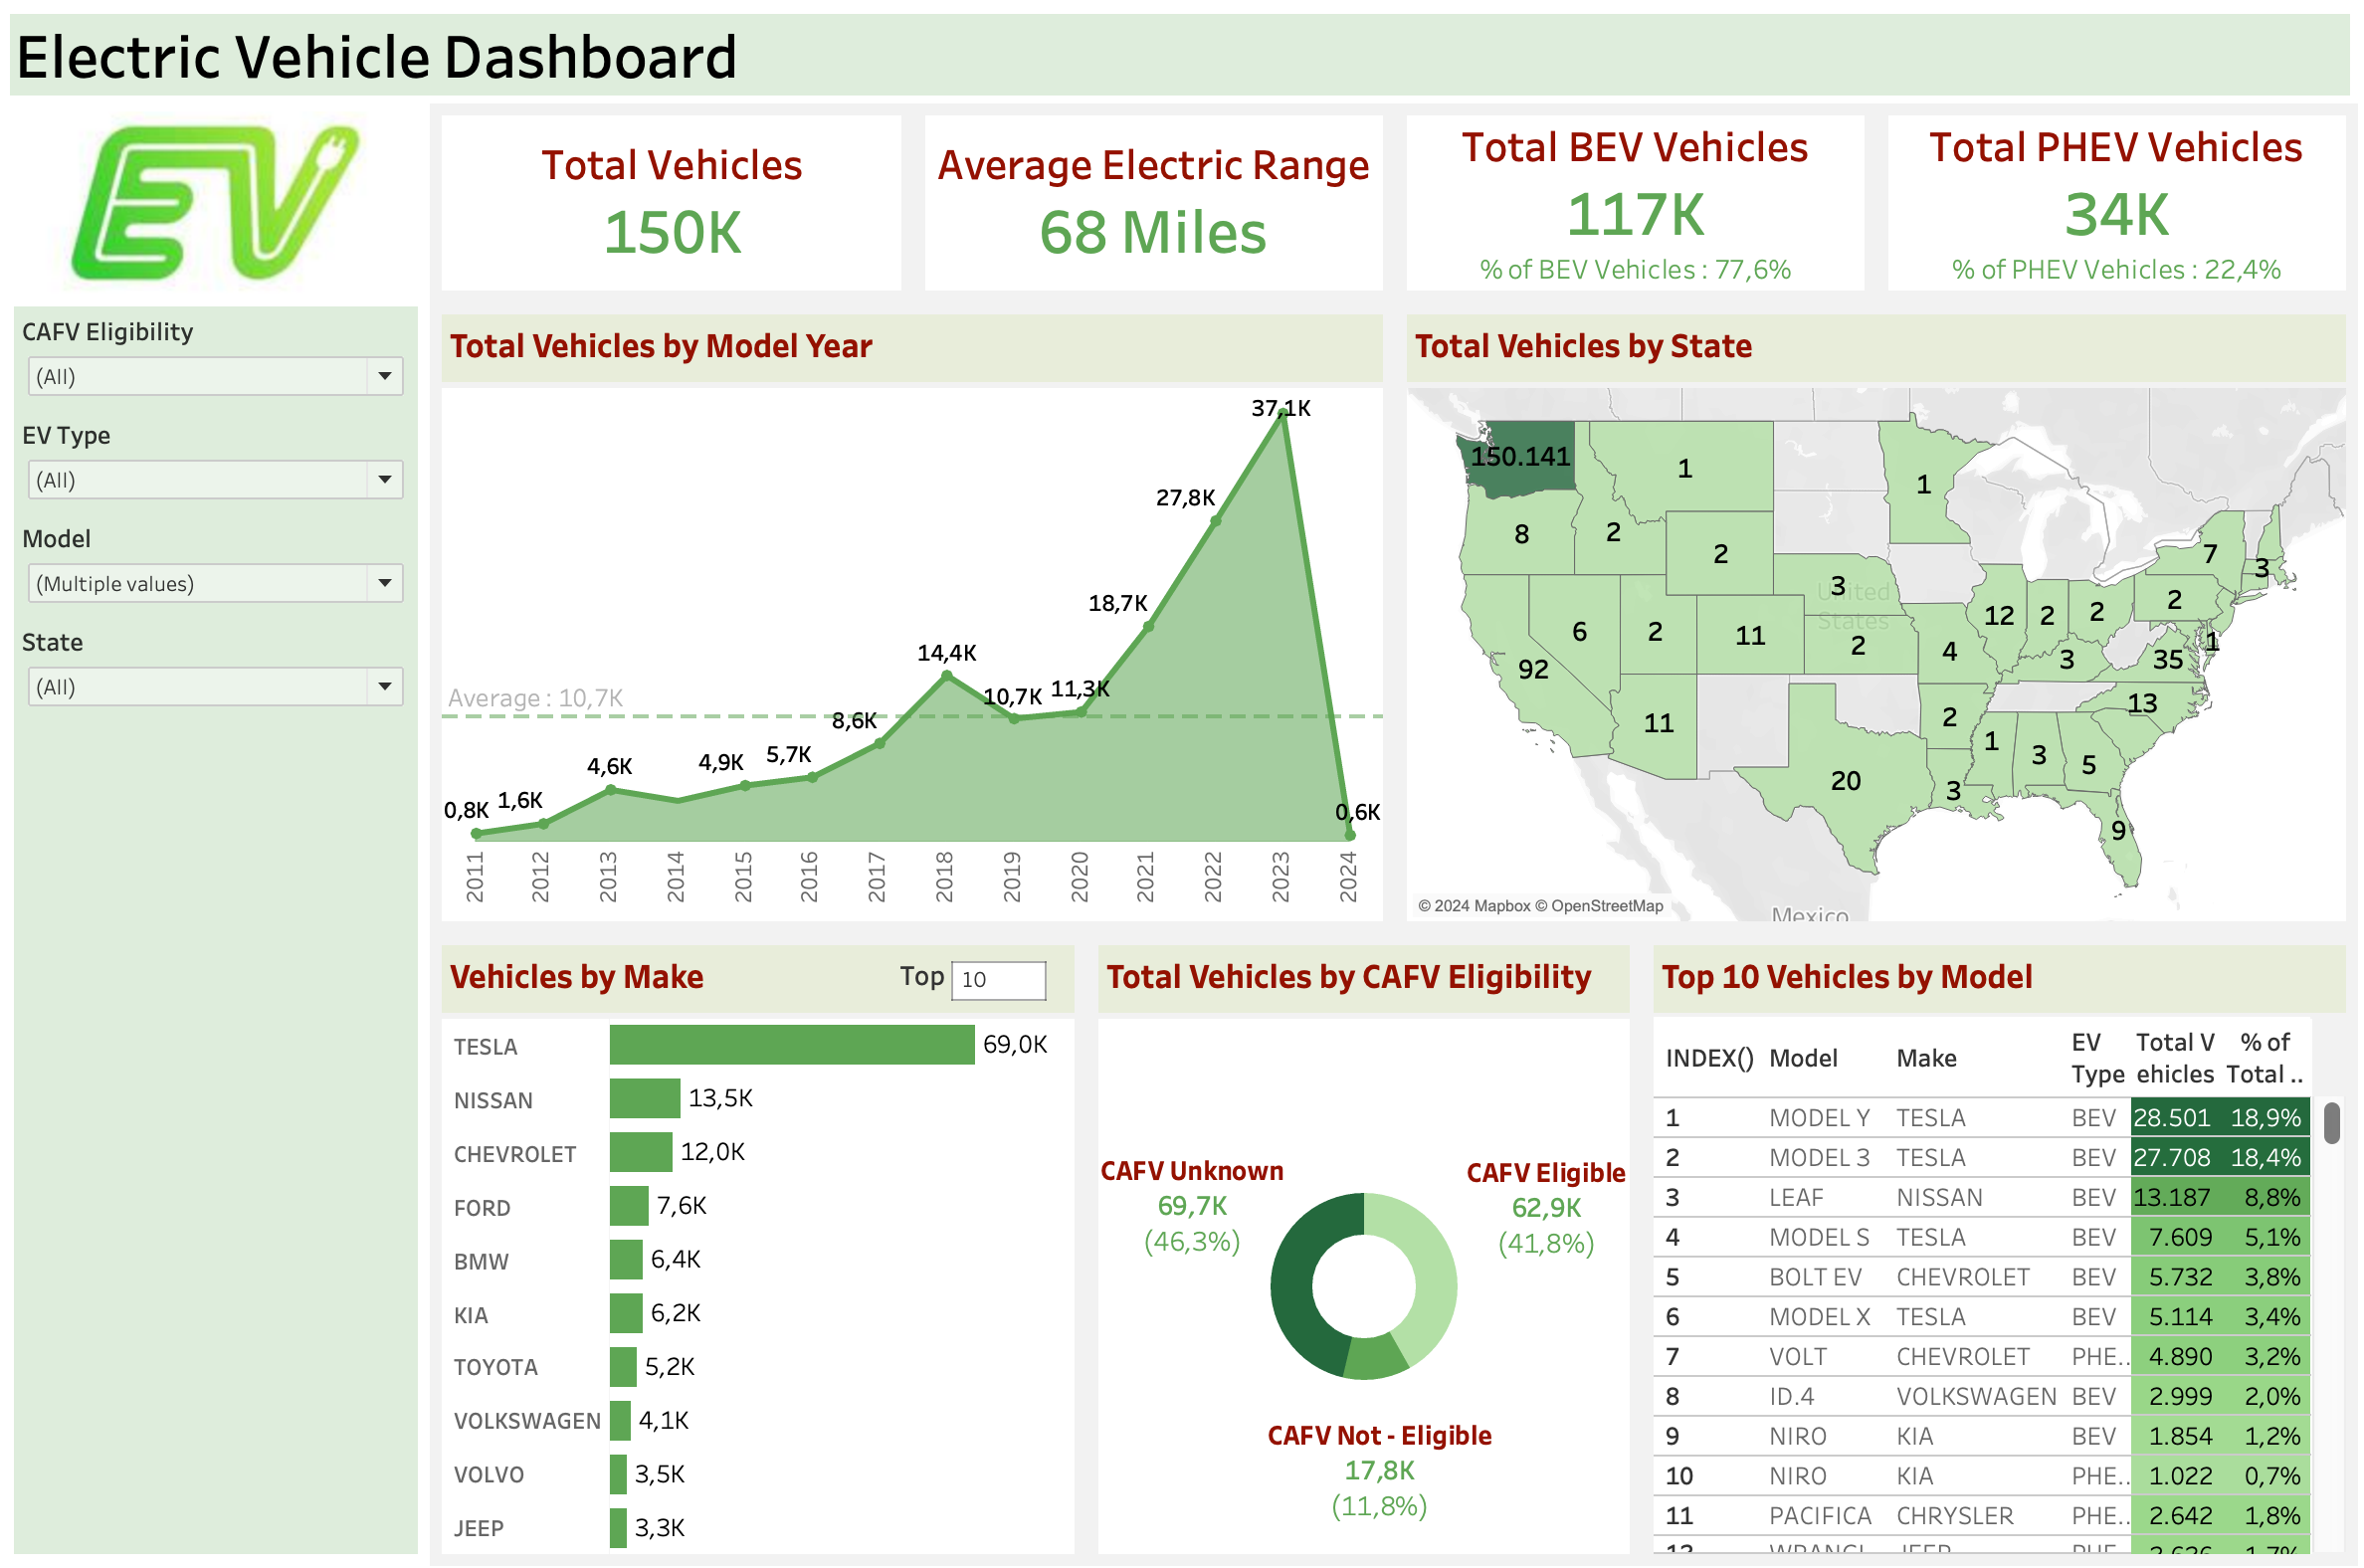

The page's visual inventory and layout, read from the dashboard file:
{"tool":"tableau","page":{"name":"EV Dashboard","canvas":[1000,1000],"units":"permille","ordinal":0},"visuals":[{"type":"title","box":[6.7,10,986.7,61.2]},{"type":"image","param":"Image/ev-with-plug-icon-symbol-electric-vehicle-charging-point-logotype-eco-frie","box":[6.7,71.2,179.2,125]},{"type":"worksheet","title":"Total Vehicles","mark":"Automatic","box":[185.8,71.2,202.5,125]},{"type":"worksheet","title":"Average Electric Range","mark":"Automatic","box":[388.3,71.2,201.7,125]},{"type":"worksheet","title":"Total BEV Vehicles","mark":"Automatic","box":[590,71.2,201.7,125]},{"type":"worksheet","title":"Total PHEV Vehicles","mark":"Automatic","box":[791.7,71.2,201.7,125]},{"type":"worksheet","title":"Total Vehicles by Model Year","mark":"Area","rows":["DOL Vehicle ID","DOL Vehicle ID"],"cols":["Model Year"],"box":[185.8,196.2,404.2,396.2]},{"type":"worksheet","title":"Total Vehicles by State","mark":"Multipolygon","box":[590,196.2,403.3,396.2]},{"type":"filter","title":"Total Vehicles by Model Year","param":"[federated.0oyvcii0kfmkbt11prdde1ced5rx].[none:Clean Alternative Fuel Vehicle (C","box":[11.7,198.8,169.2,65]},{"type":"filter","title":"Total Vehicles by Model Year","param":"[federated.0oyvcii0kfmkbt11prdde1ced5rx].[none:Electric Vehicle Type:nk]","box":[11.7,263.8,169.2,65]},{"type":"filter","title":"Total Vehicles by Model Year","param":"[federated.0oyvcii0kfmkbt11prdde1ced5rx].[none:Model:nk]","box":[11.7,328.8,169.2,65]},{"type":"filter","title":"Total Vehicles by Model Year","param":"[federated.0oyvcii0kfmkbt11prdde1ced5rx].[none:State:nk]","box":[11.7,393.8,169.2,65]},{"type":"blank","box":[11.7,458.8,169.2,87.3]},{"type":"blank","box":[11.7,546,169.2,87.3]},{"type":"worksheet","title":"Top 10 Total Vehicles by Make","mark":"Automatic","rows":["Make"],"cols":["DOL Vehicle ID"],"box":[185.8,593.1,275,396.9]},{"type":"worksheet","title":"Total Vehicles by CAFV Eligibility","mark":"Pie","rows":["Calculation_3091650801292361733","Calculation_3091650801292361733"],"box":[460.8,593.1,232.5,396.9]},{"type":"worksheet","title":"Top 10 Total Vehicles by Model","mark":"Square","rows":["Calculation_3091650801314287629","Model","Make","Electric Vehicle Type"],"box":[693.3,593.1,300,396.9]},{"type":"parameter","param":"[Parameters].[Parameter 1]","box":[341.7,606.2,105,35]},{"type":"blank","box":[11.7,633.3,169.2,87.3]},{"type":"blank","box":[11.7,720.6,169.2,87.3]},{"type":"blank","box":[11.7,807.9,169.2,87.3]},{"type":"blank","box":[11.7,895.2,169.2,87.3]}]}

Visuals, with their boxes on the dashboard's canvas, which has no fixed pixel size, in thousandths of its width and height (x1, y1, x2, y2). These are canvas units, not pixel positions in the 2364x1568 screenshot, which may show the page scaled, cropped or inside an application window:
title: (x1=7, y1=10, x2=993, y2=71)
image: (x1=7, y1=71, x2=186, y2=196)
"Total Vehicles" worksheet: (x1=186, y1=71, x2=388, y2=196)
"Average Electric Range" worksheet: (x1=388, y1=71, x2=590, y2=196)
"Total BEV Vehicles" worksheet: (x1=590, y1=71, x2=792, y2=196)
"Total PHEV Vehicles" worksheet: (x1=792, y1=71, x2=993, y2=196)
"Total Vehicles by Model Year" worksheet (Area marks): (x1=186, y1=196, x2=590, y2=592)
"Total Vehicles by State" worksheet (Multipolygon marks): (x1=590, y1=196, x2=993, y2=592)
"Total Vehicles by Model Year" filter: (x1=12, y1=199, x2=181, y2=264)
"Total Vehicles by Model Year" filter: (x1=12, y1=264, x2=181, y2=329)
"Total Vehicles by Model Year" filter: (x1=12, y1=329, x2=181, y2=394)
"Total Vehicles by Model Year" filter: (x1=12, y1=394, x2=181, y2=459)
blank: (x1=12, y1=459, x2=181, y2=546)
blank: (x1=12, y1=546, x2=181, y2=633)
"Top 10 Total Vehicles by Make" worksheet: (x1=186, y1=593, x2=461, y2=990)
"Total Vehicles by CAFV Eligibility" worksheet (Pie marks): (x1=461, y1=593, x2=693, y2=990)
"Top 10 Total Vehicles by Model" worksheet (Square marks): (x1=693, y1=593, x2=993, y2=990)
parameter: (x1=342, y1=606, x2=447, y2=641)
blank: (x1=12, y1=633, x2=181, y2=721)
blank: (x1=12, y1=721, x2=181, y2=808)
blank: (x1=12, y1=808, x2=181, y2=895)
blank: (x1=12, y1=895, x2=181, y2=982)
